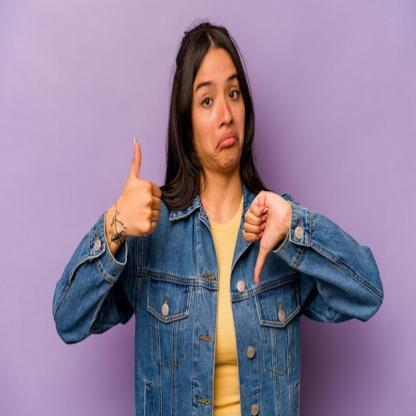thumb_down: (242, 186, 290, 289)
thumb_up: (118, 135, 164, 241)
